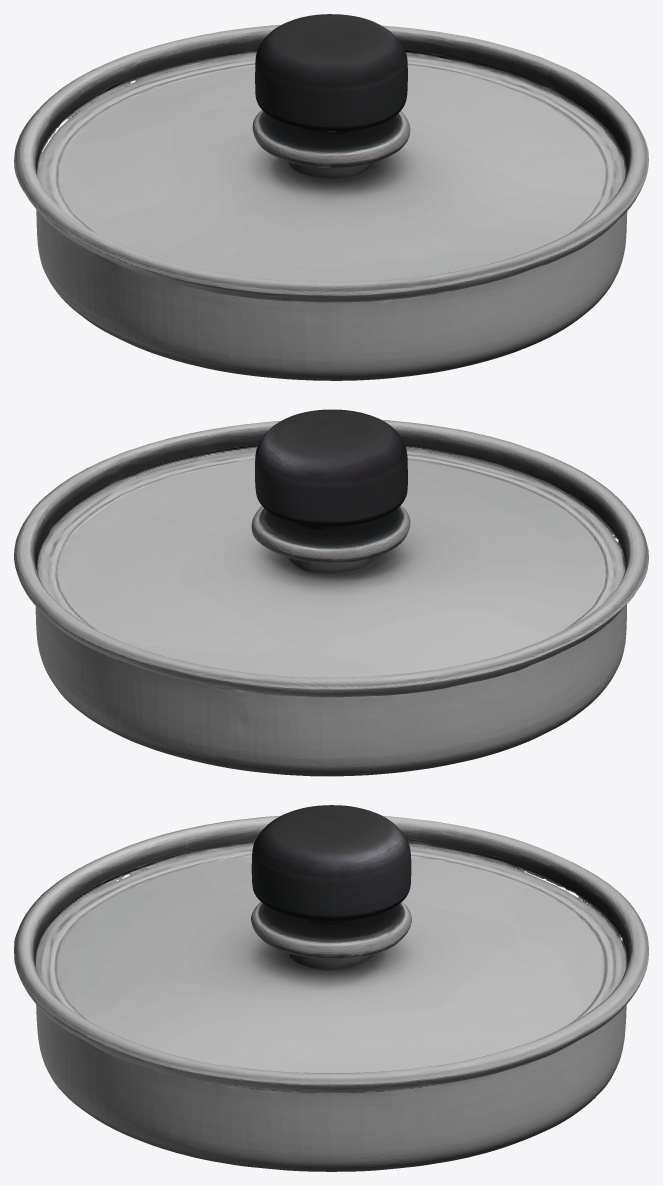
File: pot_lid.glb
3 renders of one model, top to bottom at view 1: azimuth 30°, elevation 25°; view 2: azimuth 150°, elevation 25°; view 3: azimuth 270°, elevation 25°, orthographic.
Visible parts, largest first — view 1: pot_lid.obj; view 2: pot_lid.obj; view 3: pot_lid.obj.
Boxes of the visible parts, x1,y1,x2,y2 form: pot_lid.obj: (14, 14, 648, 380); pot_lid.obj: (14, 409, 648, 776); pot_lid.obj: (14, 805, 648, 1171).
Bounding box in the file's own units: 0.2879 × 0.115 × 0.2877.
1 material, 1 textured.
